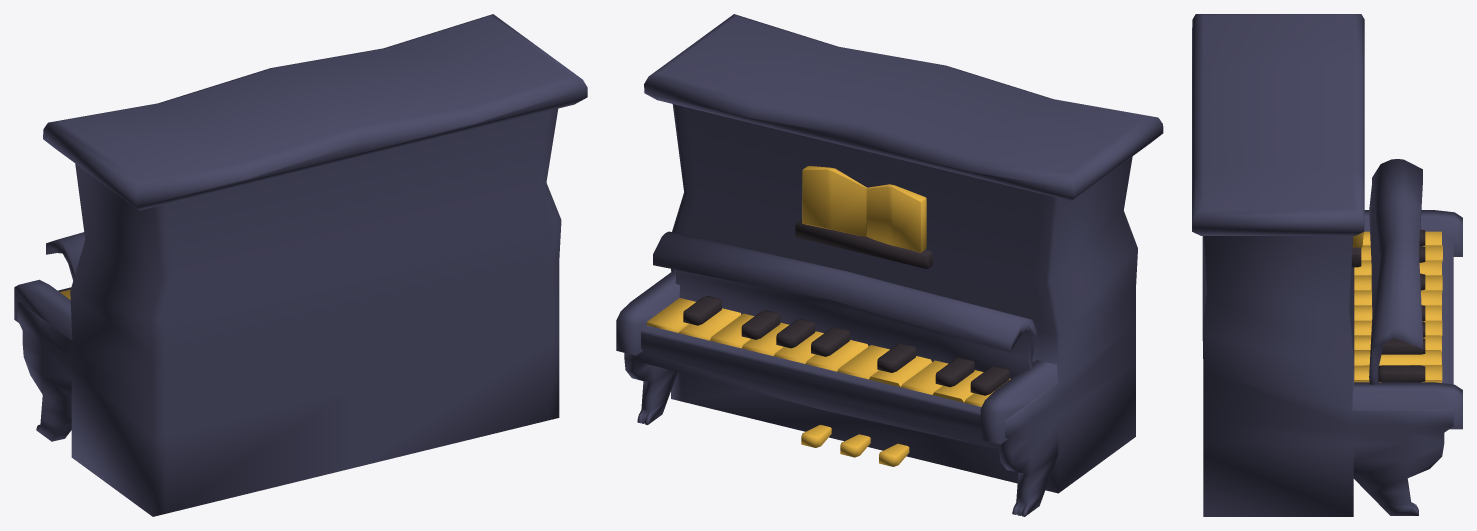
Rendered from props_piano.fbx.
3 renders of one model, left to right at view 1: azimuth 30°, elevation 25°; view 2: azimuth 150°, elevation 25°; view 3: azimuth 270°, elevation 25°, orthographic. The views are drawn at different scales.
Parts seen in each view (by area): view 1: piano; view 2: piano; view 3: piano.
Part boxes in pixels (x1=…): piano: x1=14, y1=14, x2=587, y2=516; piano: x1=616, y1=14, x2=1163, y2=516; piano: x1=1192, y1=14, x2=1462, y2=516.
Bounding box in the file's own units: 3.86 × 2.17 × 2.78.
